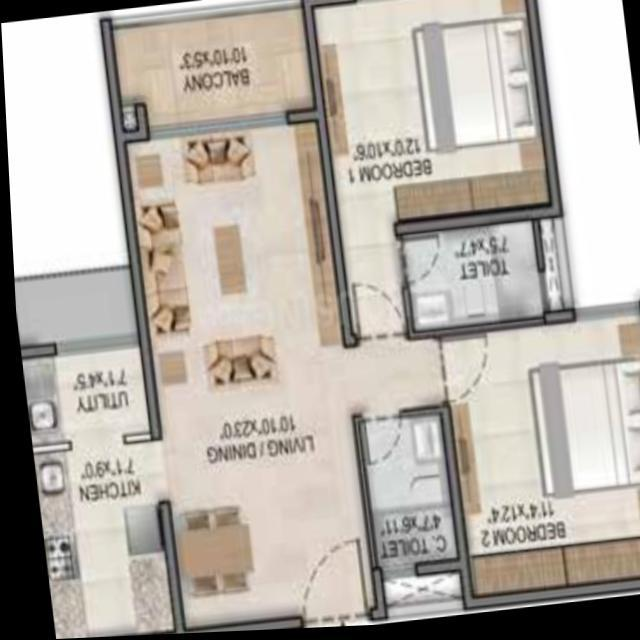Balcony-Sitout: (109, 7, 314, 132)
Bedroom: (436, 319, 640, 602)
Bedroom with Toilet: (310, 0, 547, 347)
Dining: (164, 496, 253, 605)
Enterance-Foyer: (284, 538, 372, 631)
Kitchen: (27, 442, 167, 639)
Living: (116, 115, 371, 623)
Toilet: (399, 224, 539, 334), (357, 413, 452, 572)
Utility: (17, 347, 143, 446)
